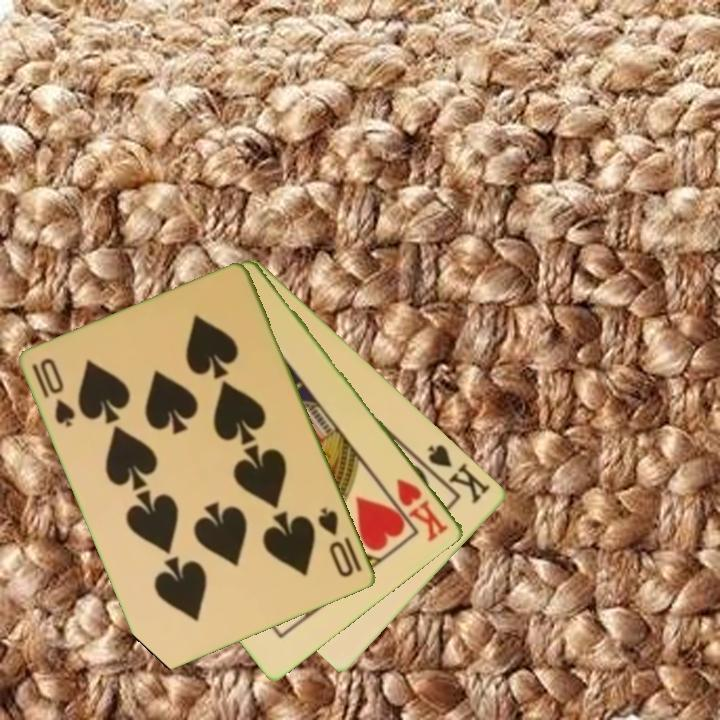10s: (28, 354, 79, 431), (314, 504, 357, 581)
Kh: (393, 475, 452, 544)
Ks: (417, 440, 494, 507)
